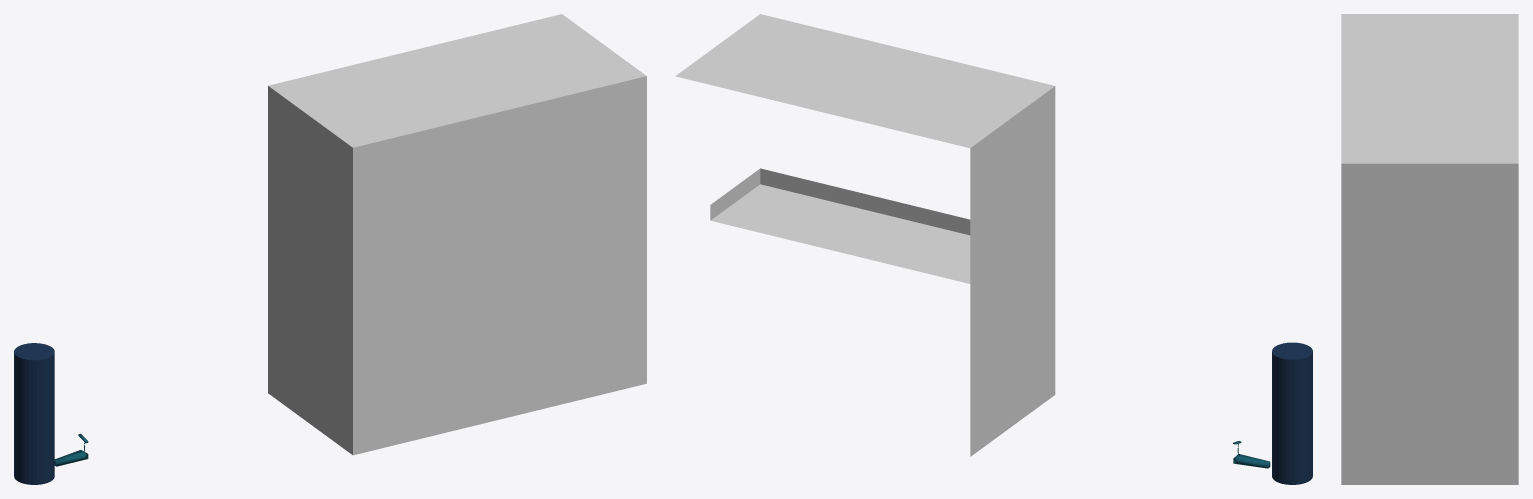
The model's file is 螺旋階段.glb.
3 renders of one model, left to right at view 1: azimuth 30°, elevation 25°; view 2: azimuth 150°, elevation 25°; view 3: azimuth 270°, elevation 25°, orthographic. The views are drawn at different scales.
Parts seen in each view (by area): view 1: 立方体, 円柱.001; view 2: 立方体, 円柱.001; view 3: 立方体.
Part boxes in pixels (<box>): 立方体: <box>268,14,646,455</box>; 円柱.001: <box>14,343,54,484</box>; 立方体: <box>675,14,1055,456</box>; 円柱.001: <box>1272,342,1312,484</box>; 立方体: <box>1341,14,1518,484</box>.
Size of the model in its own units: 4.01 by 2 by 1.
